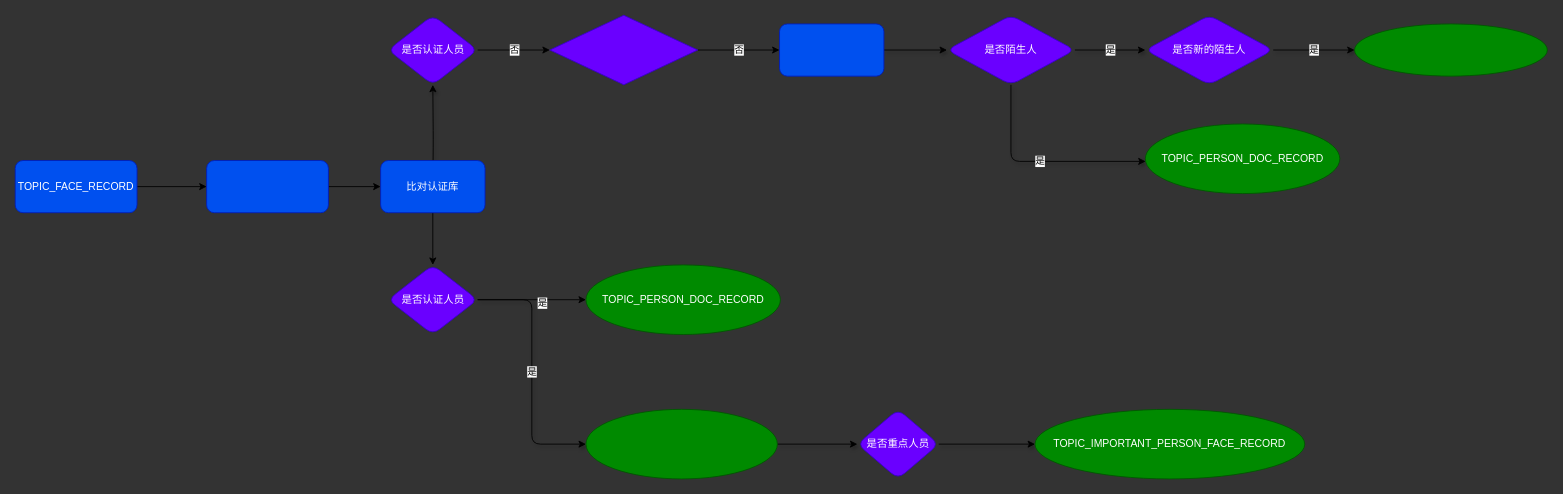
Image size: 1563x494. Some labels were removed from this diagram. Here are the shapes that lost their labels. From the top down, the centre of each, then its label:
At (x=623, y=49): "是否属于不比对的小区".
At (x=831, y=49): "比对陌生人库".
At (x=1450, y=49): "ods_basic_info.doc_stranger_info".
At (x=267, y=186): "DWD_FACE_RECORD".
At (x=681, y=443): "TOPIC_FACE_COMPARE_RECORD".
